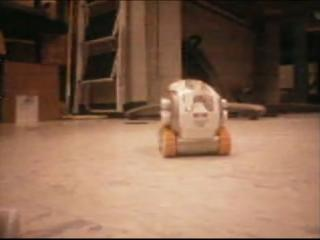cozmo: (153, 75, 236, 158)
